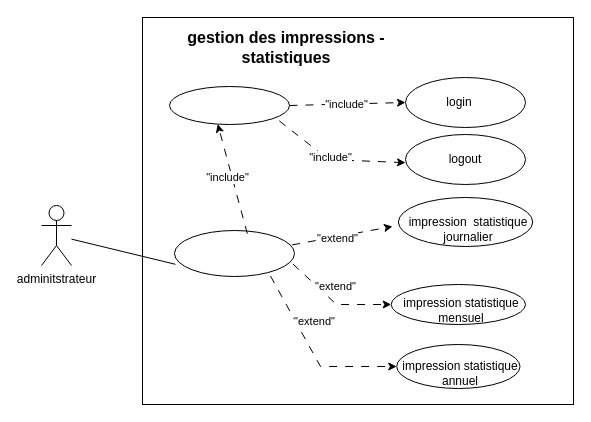
Some shapes in this 591 by 422 pixel diagram are drawn without their labels. Here are the shapes that lost their labels. From the top down, the box of each, then its label:
(168, 86, 290, 124): authentifier
(174, 230, 294, 276): gérer les impressions
